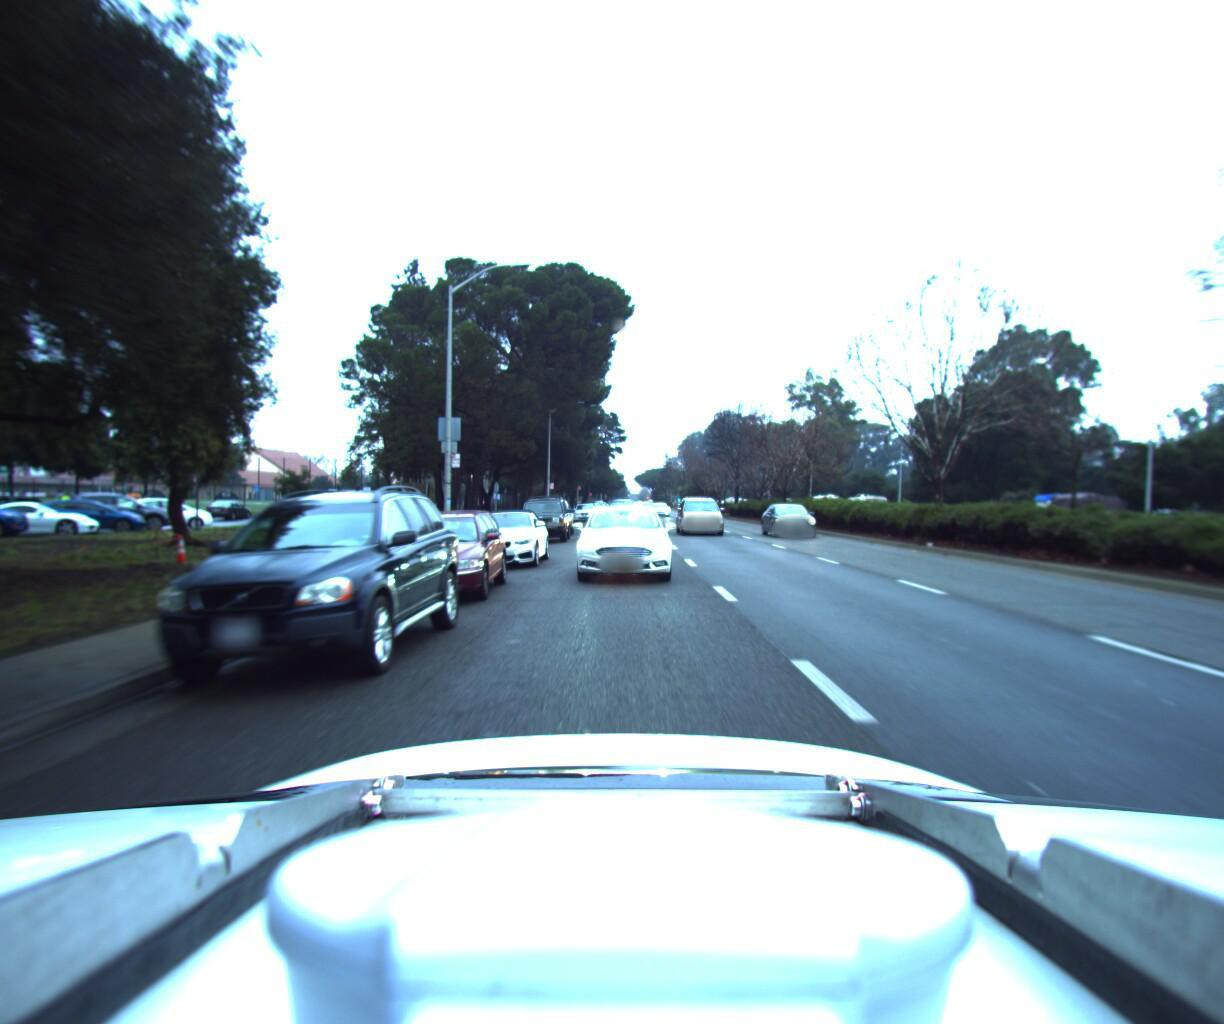car: (108, 463, 468, 714), (351, 500, 511, 612), (565, 496, 665, 585), (454, 501, 549, 571), (514, 484, 569, 541), (671, 488, 731, 532), (760, 496, 827, 533), (571, 494, 595, 517)
other_vehicle: (1025, 483, 1126, 532)
